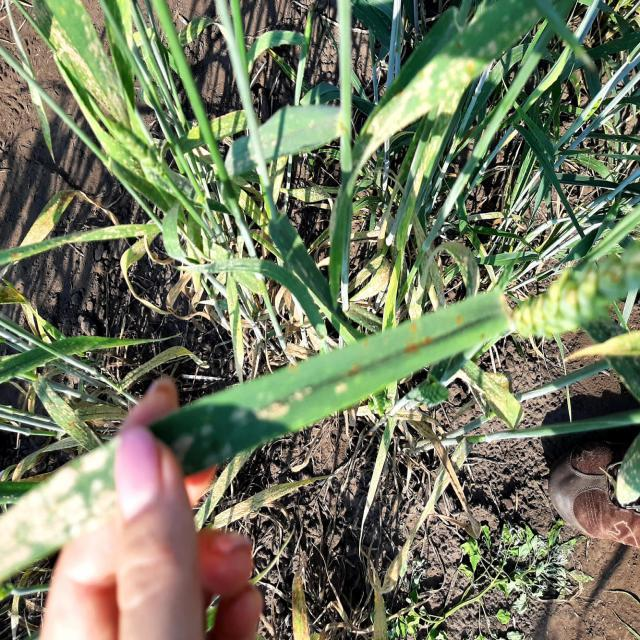wheat-powdery-mildew: (3, 442, 123, 580)
